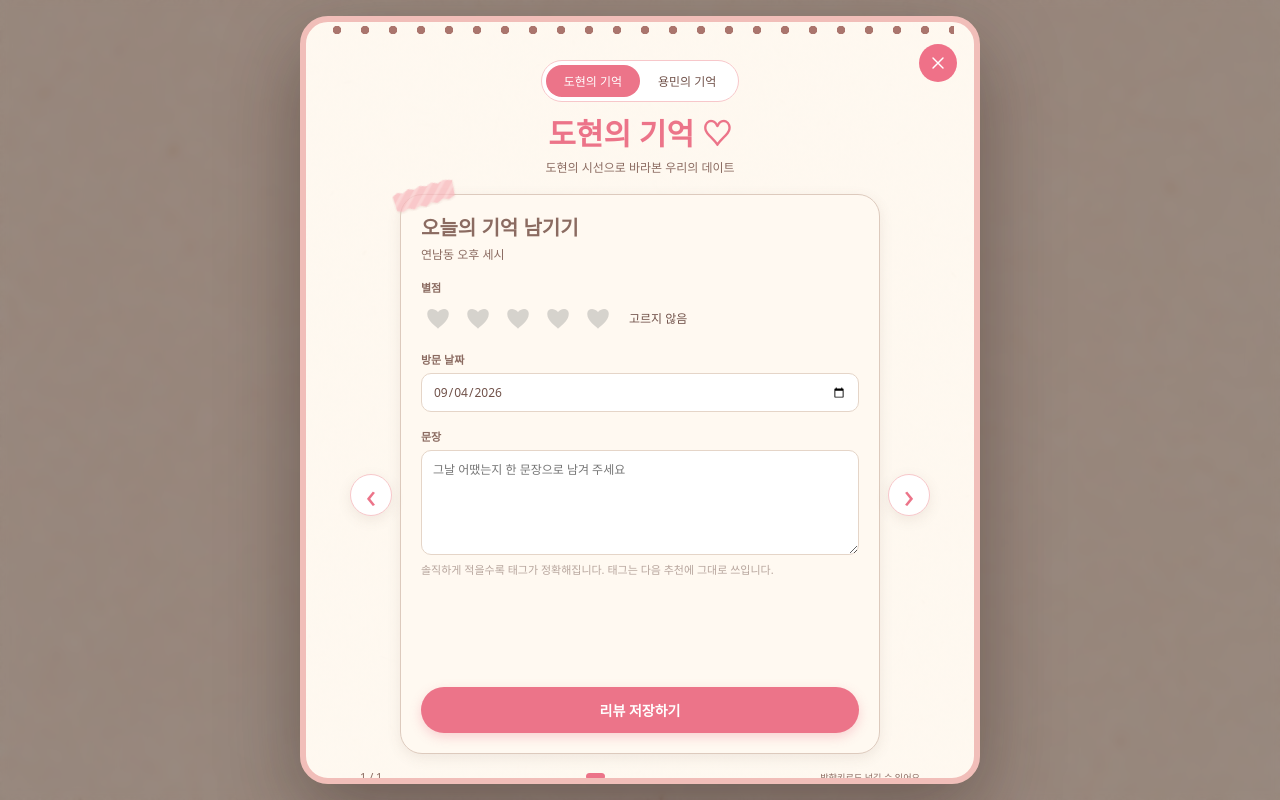
Test: 리뷰 작성 화면 › 저장에 성공하면 폼 대신 추출된 태그가 붙은 카드를 보여준다
Click the radio button with test id "review-rating-4" at (558, 318), box [541,301,575,335]
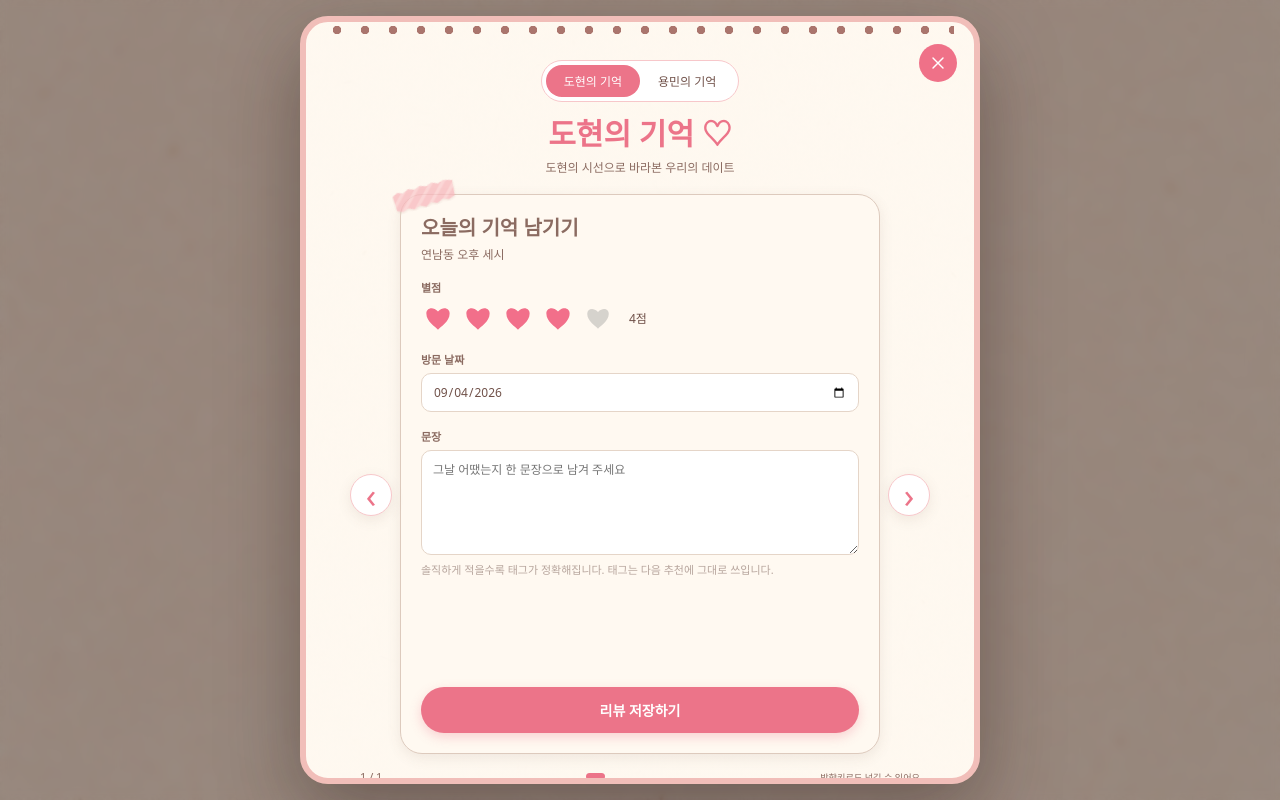
Type "조용해서 얘기하기 좋았어요" into the text box with test id "review-content" at (640, 502), box [421,450,859,555]
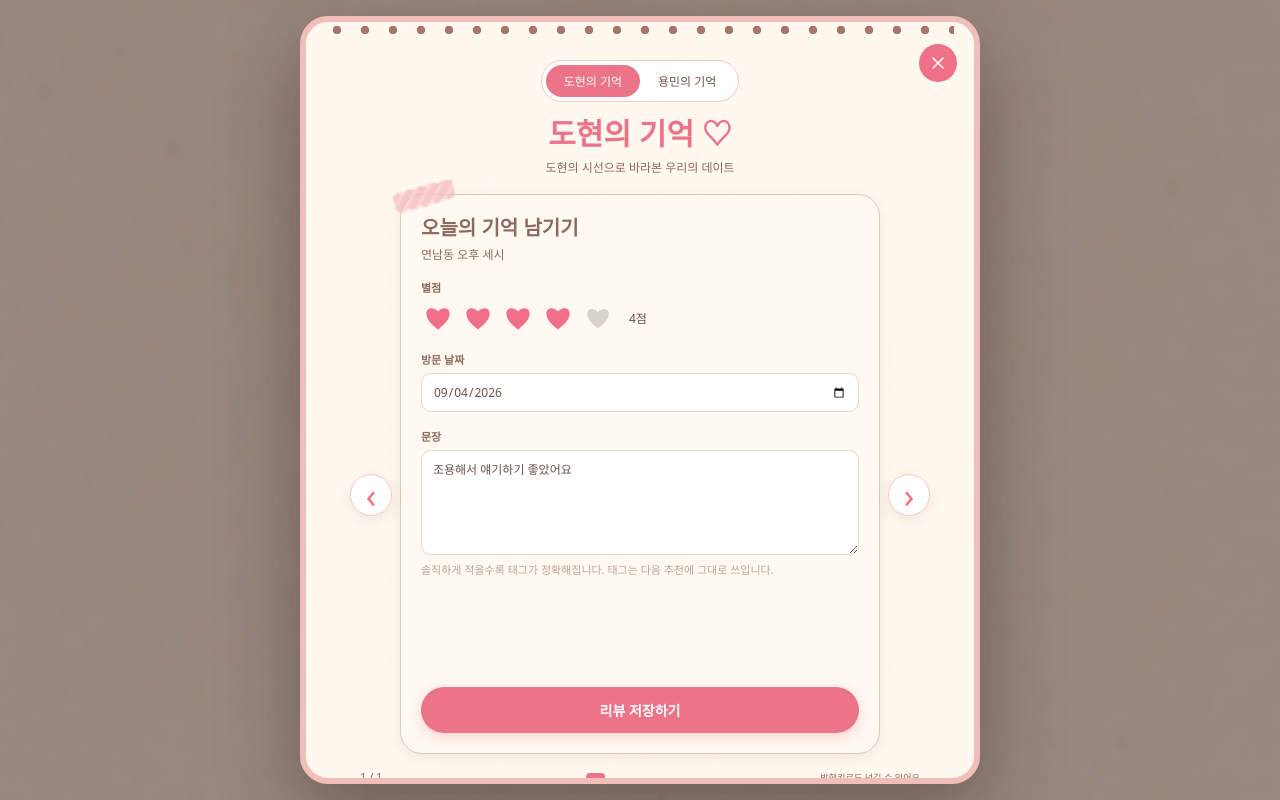
Submit the form with test id "review-write-form", box [400,194,880,754]
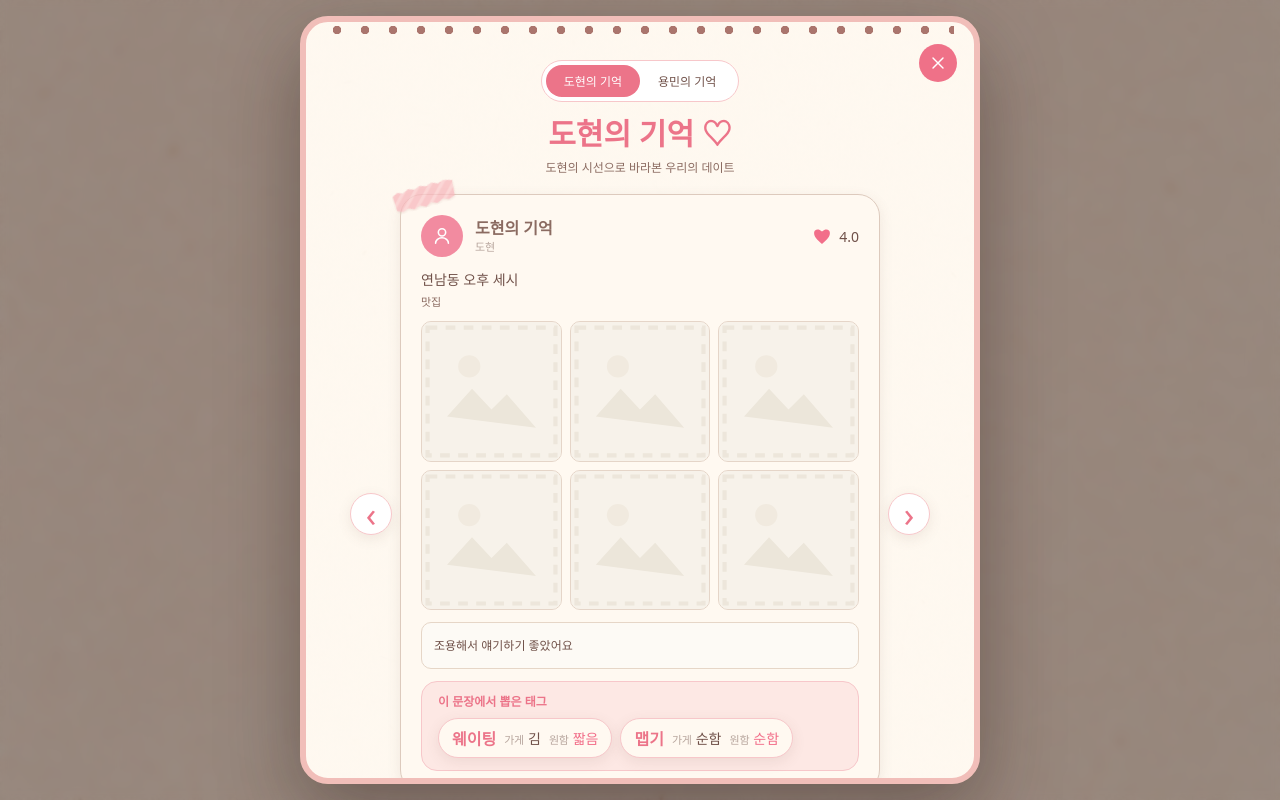
Now the element with test id "review-ai-tags" is shown, box [421,681,859,771]
Now the element with test id "review-ai-tags" shows "웨이팅", box [452,728,496,750]
Now the element with test id "review-ai-tags" shows "김", box [528,729,541,748]
